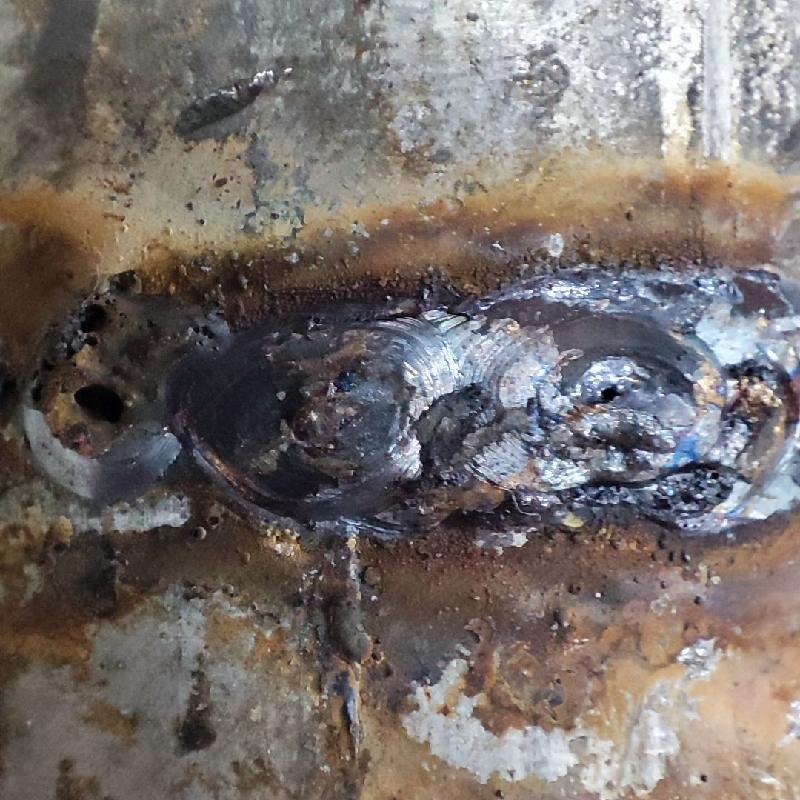Surface_pores: (65, 371, 134, 430), (590, 375, 636, 420)
crater: (472, 305, 798, 495)
